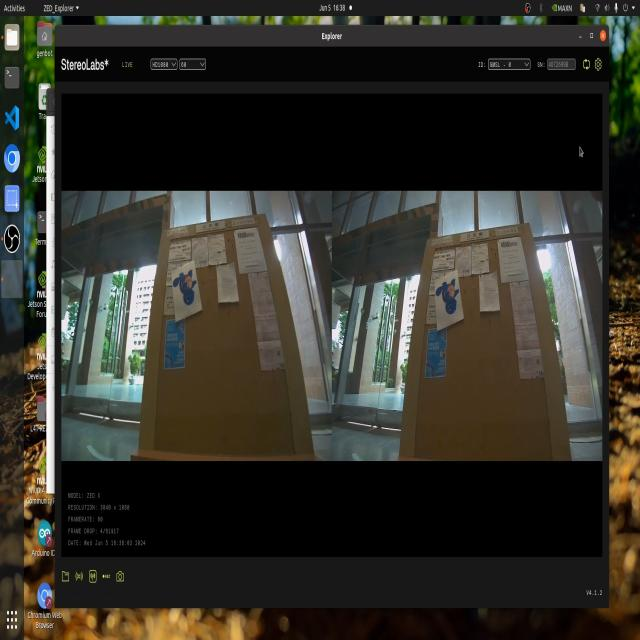blue: (168, 265, 200, 313), (435, 275, 464, 320)
